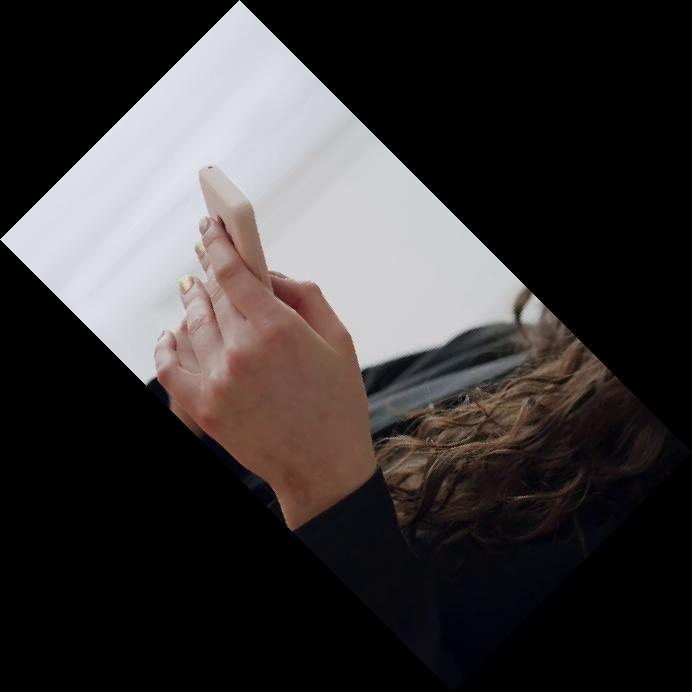phone: (192, 160, 277, 299)
